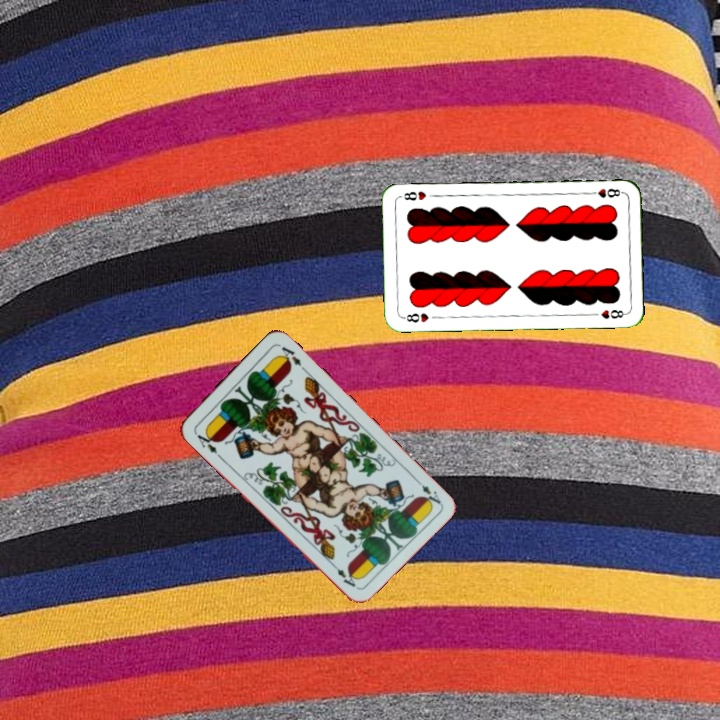EA: (411, 474, 443, 509), (190, 427, 223, 460)
H8: (585, 184, 625, 200), (399, 309, 431, 325)
